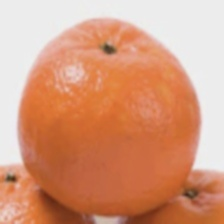orange: (34, 16, 220, 216)
